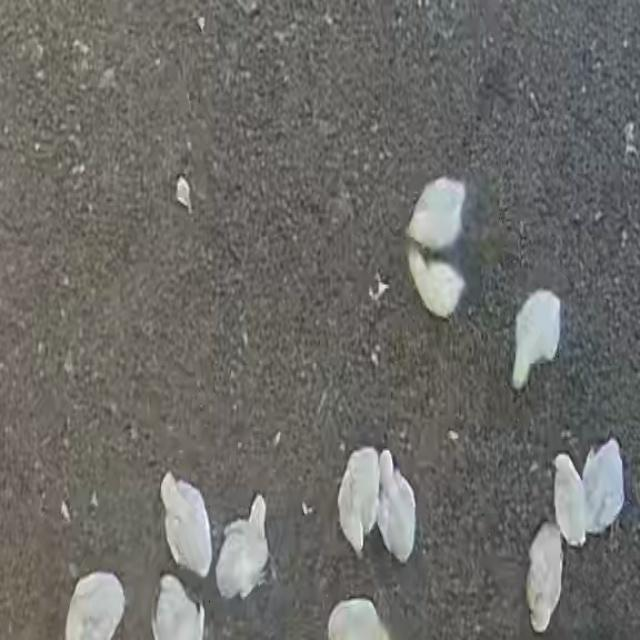chicken: (214, 490, 273, 602), (156, 467, 214, 578), (508, 283, 564, 392), (373, 448, 420, 562), (402, 177, 468, 251), (404, 249, 468, 322), (338, 447, 379, 558), (524, 519, 562, 635), (583, 438, 625, 538), (549, 448, 589, 552)
